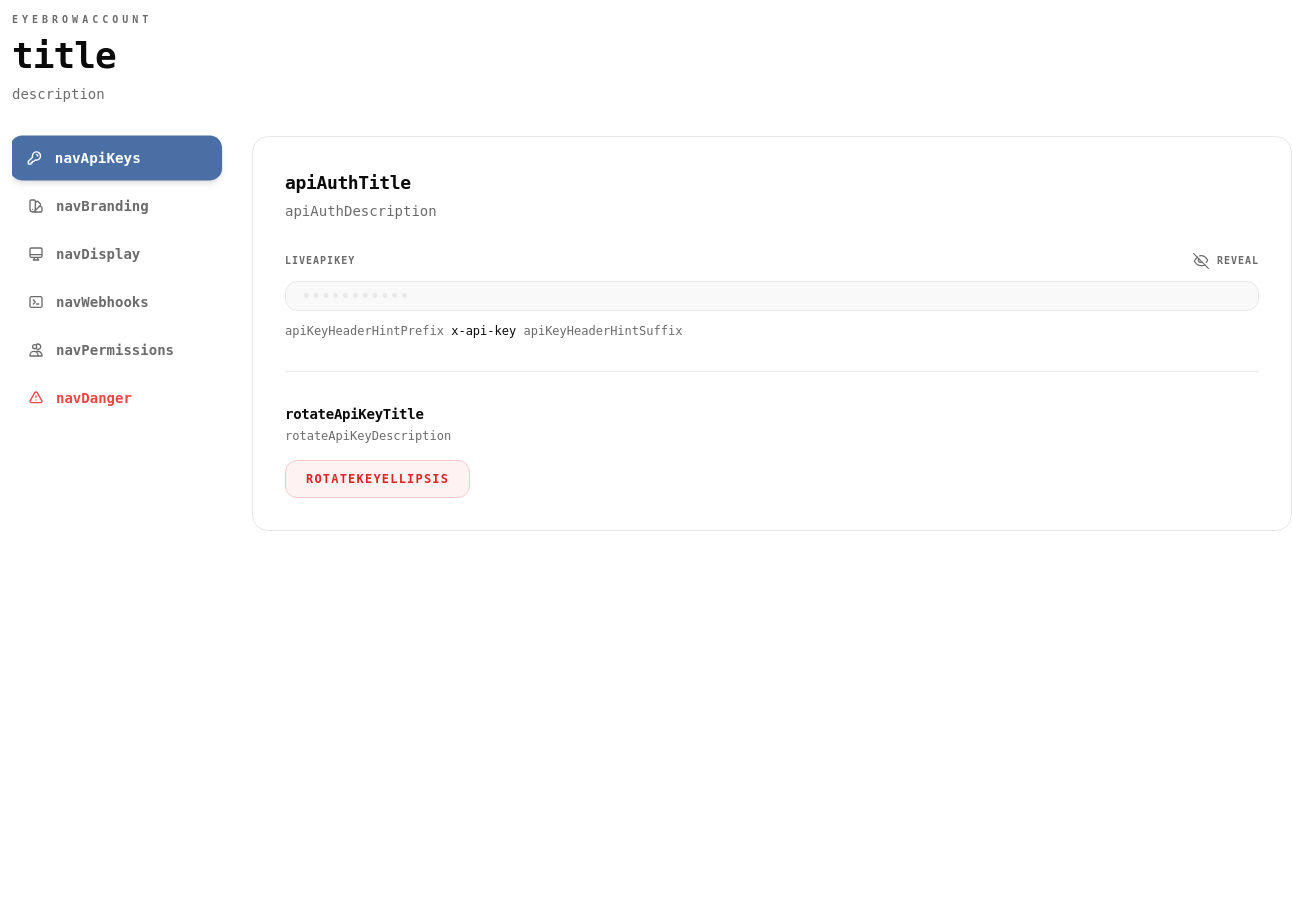
SettingsWidget › API Keys tab › cancels rotation when Cancel clicked
Expected: the heading "apiAuthTitle" is shown, [285,172,411,193]
Step 1. Click the button "rotateKeyEllipsis" → (378, 479), box [285,460,470,498]
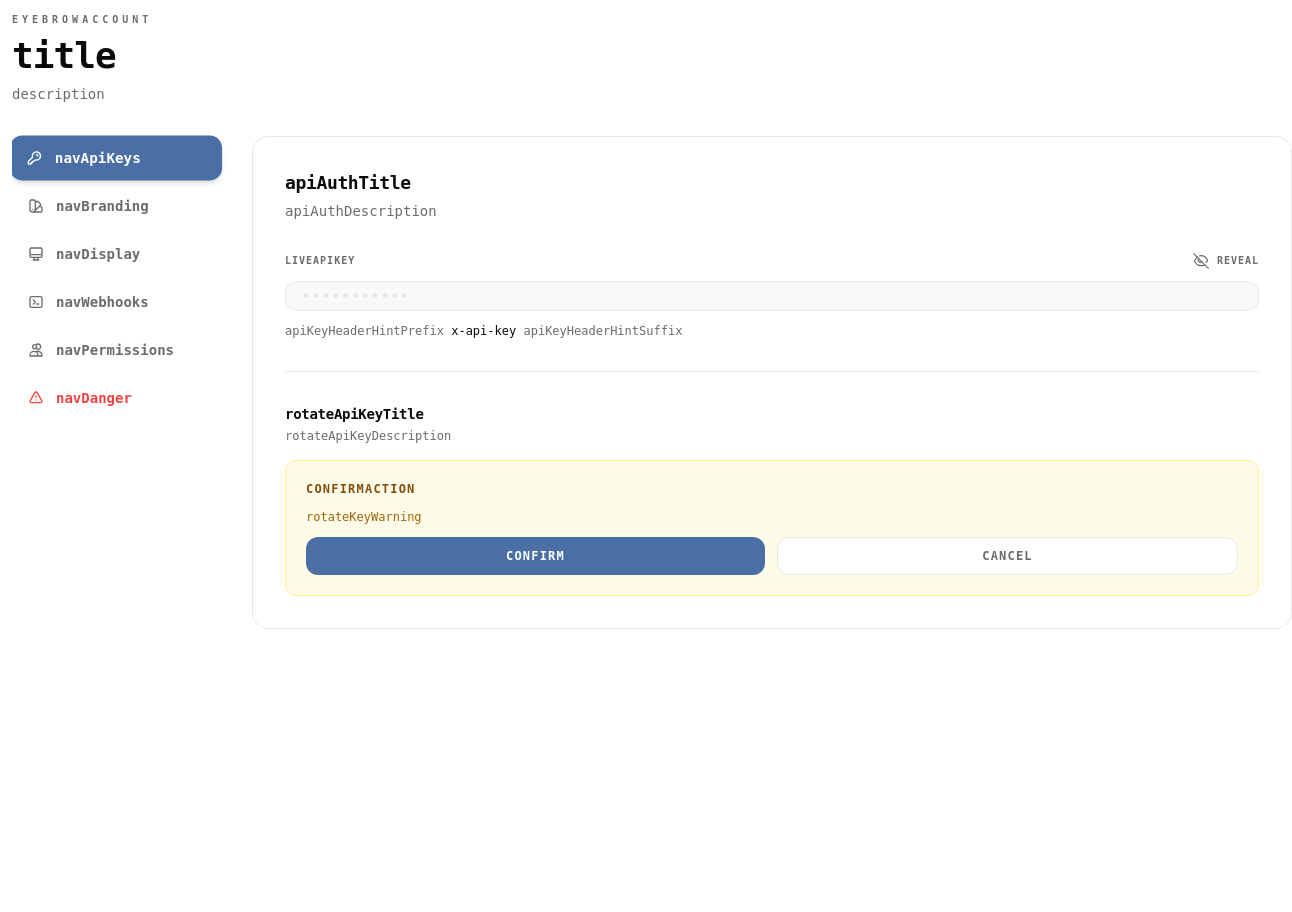
Step 2. Click the button "cancel" → (1008, 556), box [777,537,1238,575]
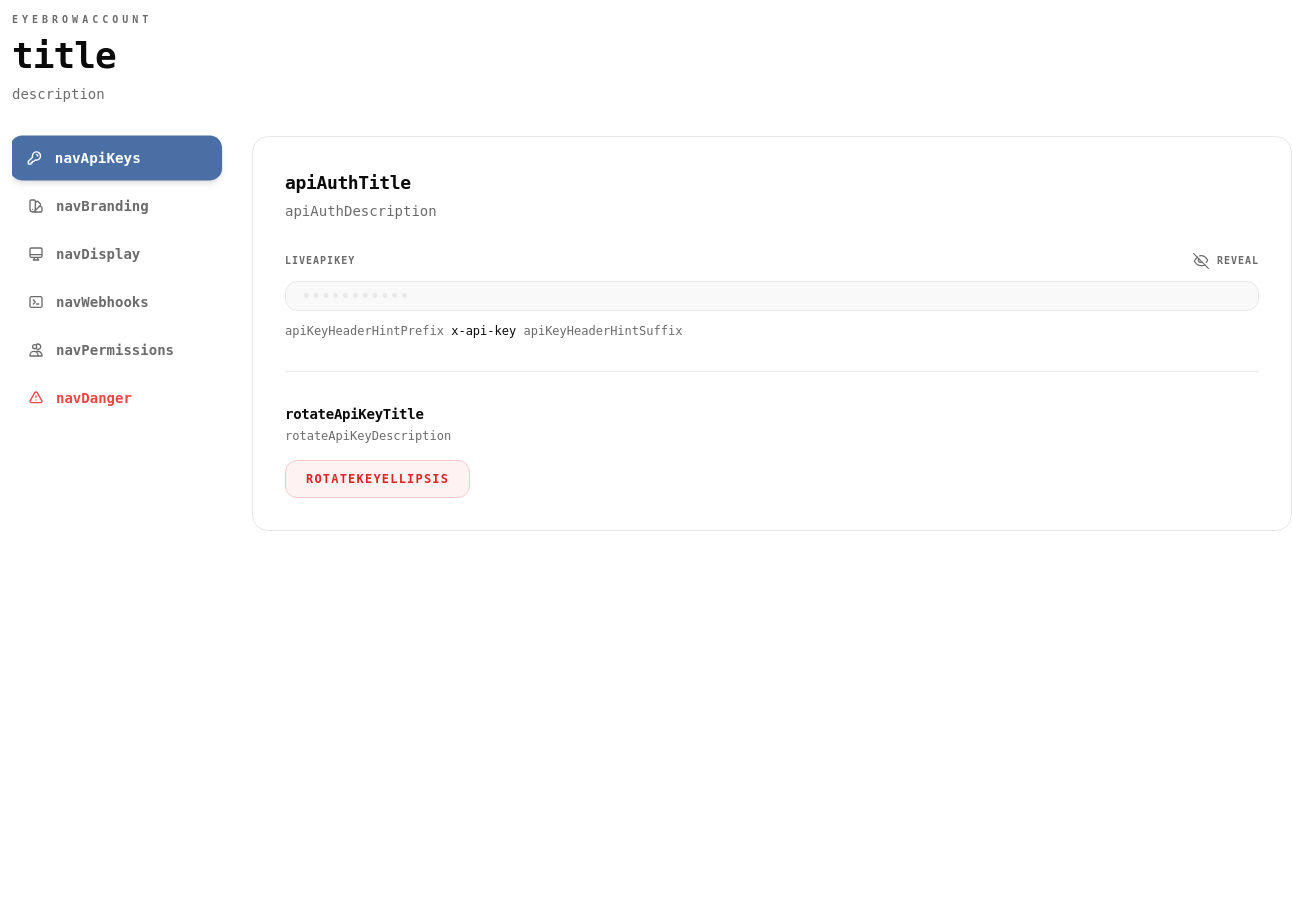
Now the text "confirmAction" is gone
